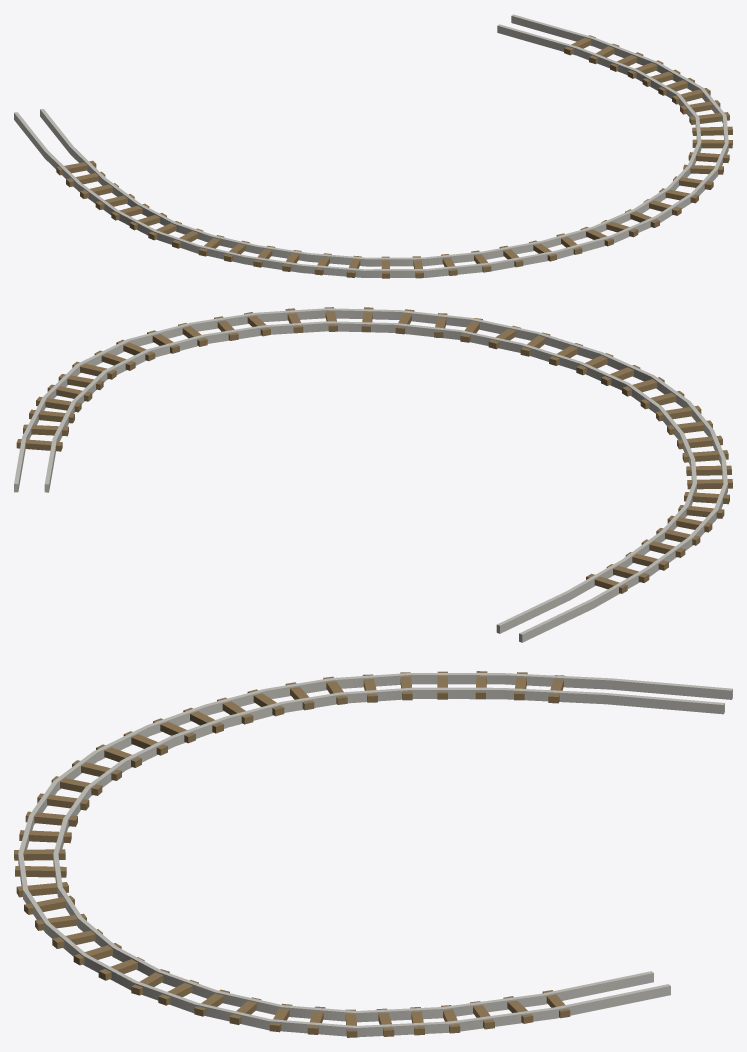
The model's file is railroad.FBX.
The picture shows the model from 3 angles, top to bottom: view 1: azimuth 30°, elevation 25°; view 2: azimuth 150°, elevation 25°; view 3: azimuth 270°, elevation 25°; orthographic projection. The views are drawn at different scales.
Parts seen in each view (by area): view 1: Loft001; view 2: Loft001; view 3: Loft001.
Part boxes in pixels (x1=…): Loft001: x1=14, y1=14, x2=732, y2=278; Loft001: x1=14, y1=307, x2=732, y2=642; Loft001: x1=14, y1=671, x2=732, y2=1037.
Bounding box in the file's own units: 120 × 1.43 × 101.
1 material, 1 textured.
